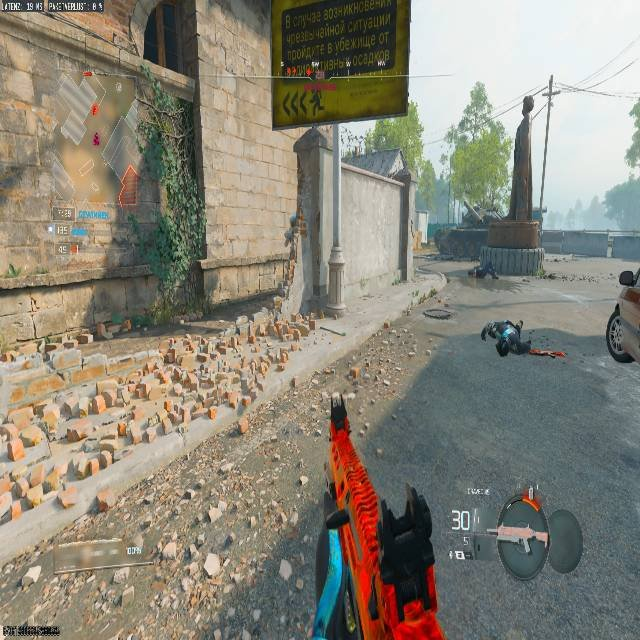head: (496, 340, 509, 356)
